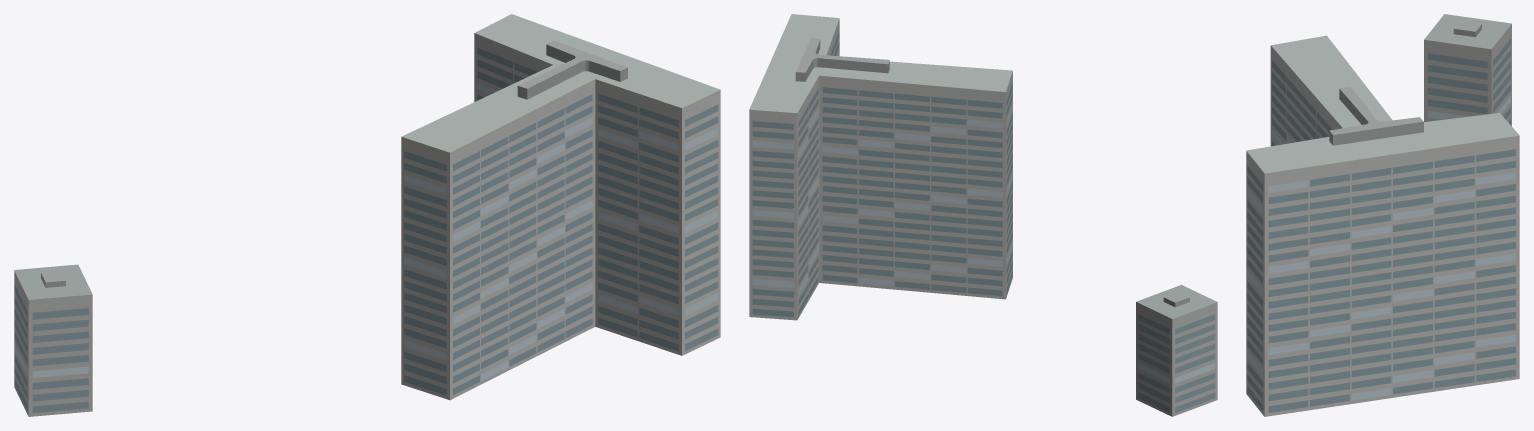
The model's file is apt-a13508004.glb.
3 renders of one model, left to right at view 1: azimuth 30°, elevation 25°; view 2: azimuth 150°, elevation 25°; view 3: azimuth 270°, elevation 25°, orthographic. The views are drawn at different scales.
Parts seen in each view (by area): view 1: apt-a13508004; view 2: apt-a13508004; view 3: apt-a13508004.
Part boxes in pixels (box(x1,y1,x2,y2)): apt-a13508004: box(14, 14, 720, 416); apt-a13508004: box(749, 14, 1217, 416); apt-a13508004: box(1246, 14, 1519, 416).
Bounding box in the file's own units: 139 × 57 × 55.64.
